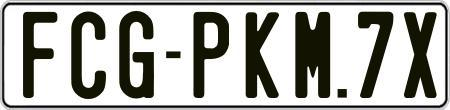7: (355, 9, 396, 95)
C: (69, 11, 110, 100)
F: (20, 9, 59, 99)
G: (118, 11, 153, 101)
K: (244, 12, 278, 99)
M: (293, 11, 331, 97)
P: (192, 12, 230, 101)
X: (403, 9, 436, 98)
